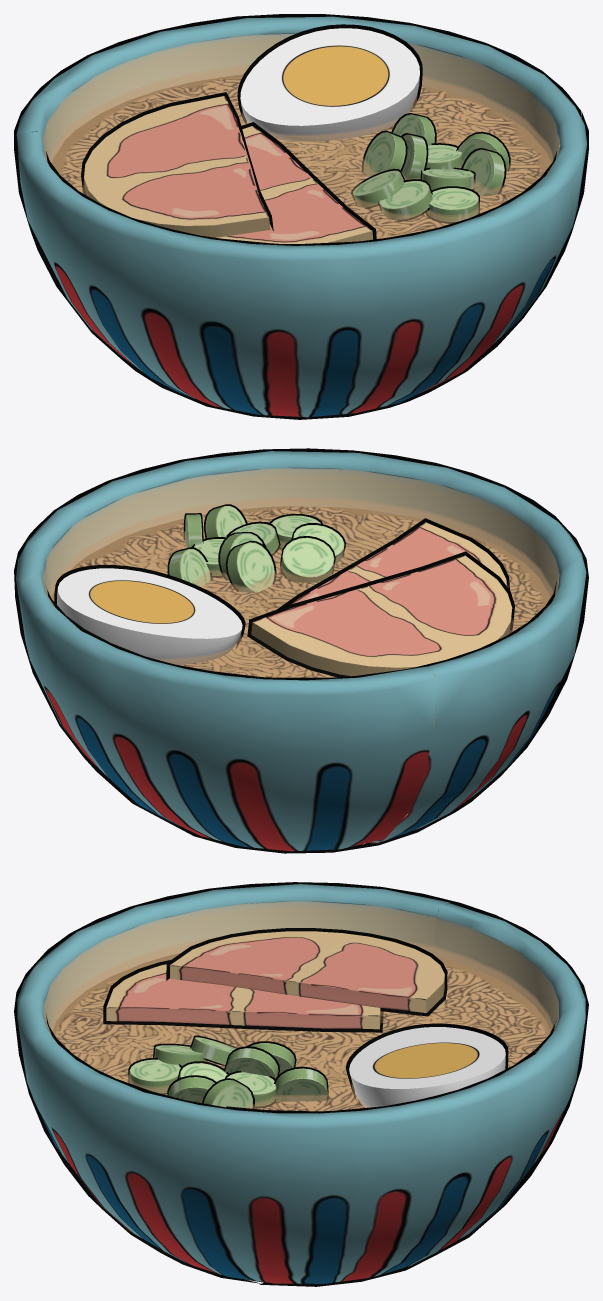
File: ramen.glb
3 views of the same model, one above another, from view 1: azimuth 30°, elevation 25°; view 2: azimuth 150°, elevation 25°; view 3: azimuth 270°, elevation 25° (orthographic).
Parts seen in each view (by area): view 1: defaultMaterial.049, defaultMaterial.048; view 2: defaultMaterial.049, defaultMaterial.048; view 3: defaultMaterial.049, defaultMaterial.048.
Part boxes in pixels (<box>): defaultMaterial.049: <box>16,16,586,417</box>; defaultMaterial.048: <box>14,14,588,419</box>; defaultMaterial.049: <box>16,451,586,851</box>; defaultMaterial.048: <box>14,448,588,853</box>; defaultMaterial.049: <box>17,884,585,1283</box>; defaultMaterial.048: <box>14,882,588,1286</box>.
Size of the model in its own units: 111 by 50.01 by 111.
2 materials, 1 textured.
